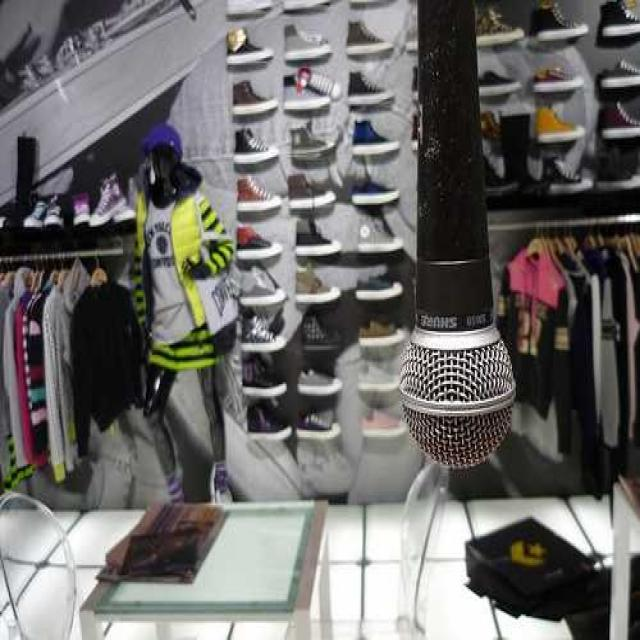microphone: (399, 7, 512, 457)
